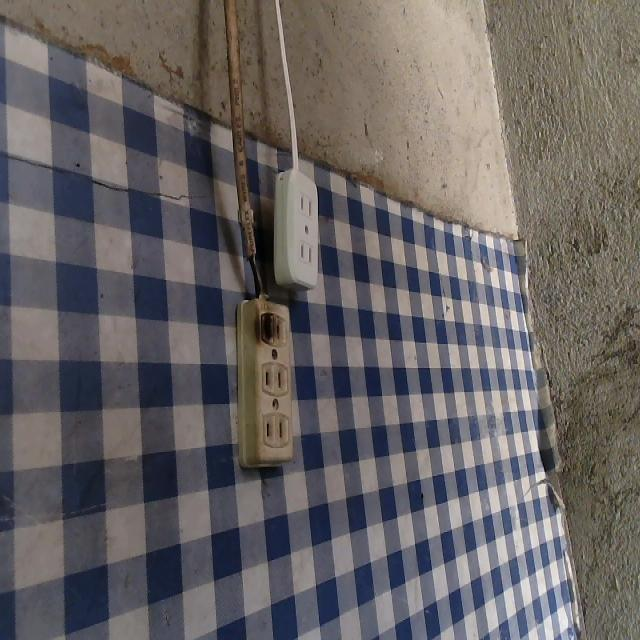-: (252, 306, 277, 351)
